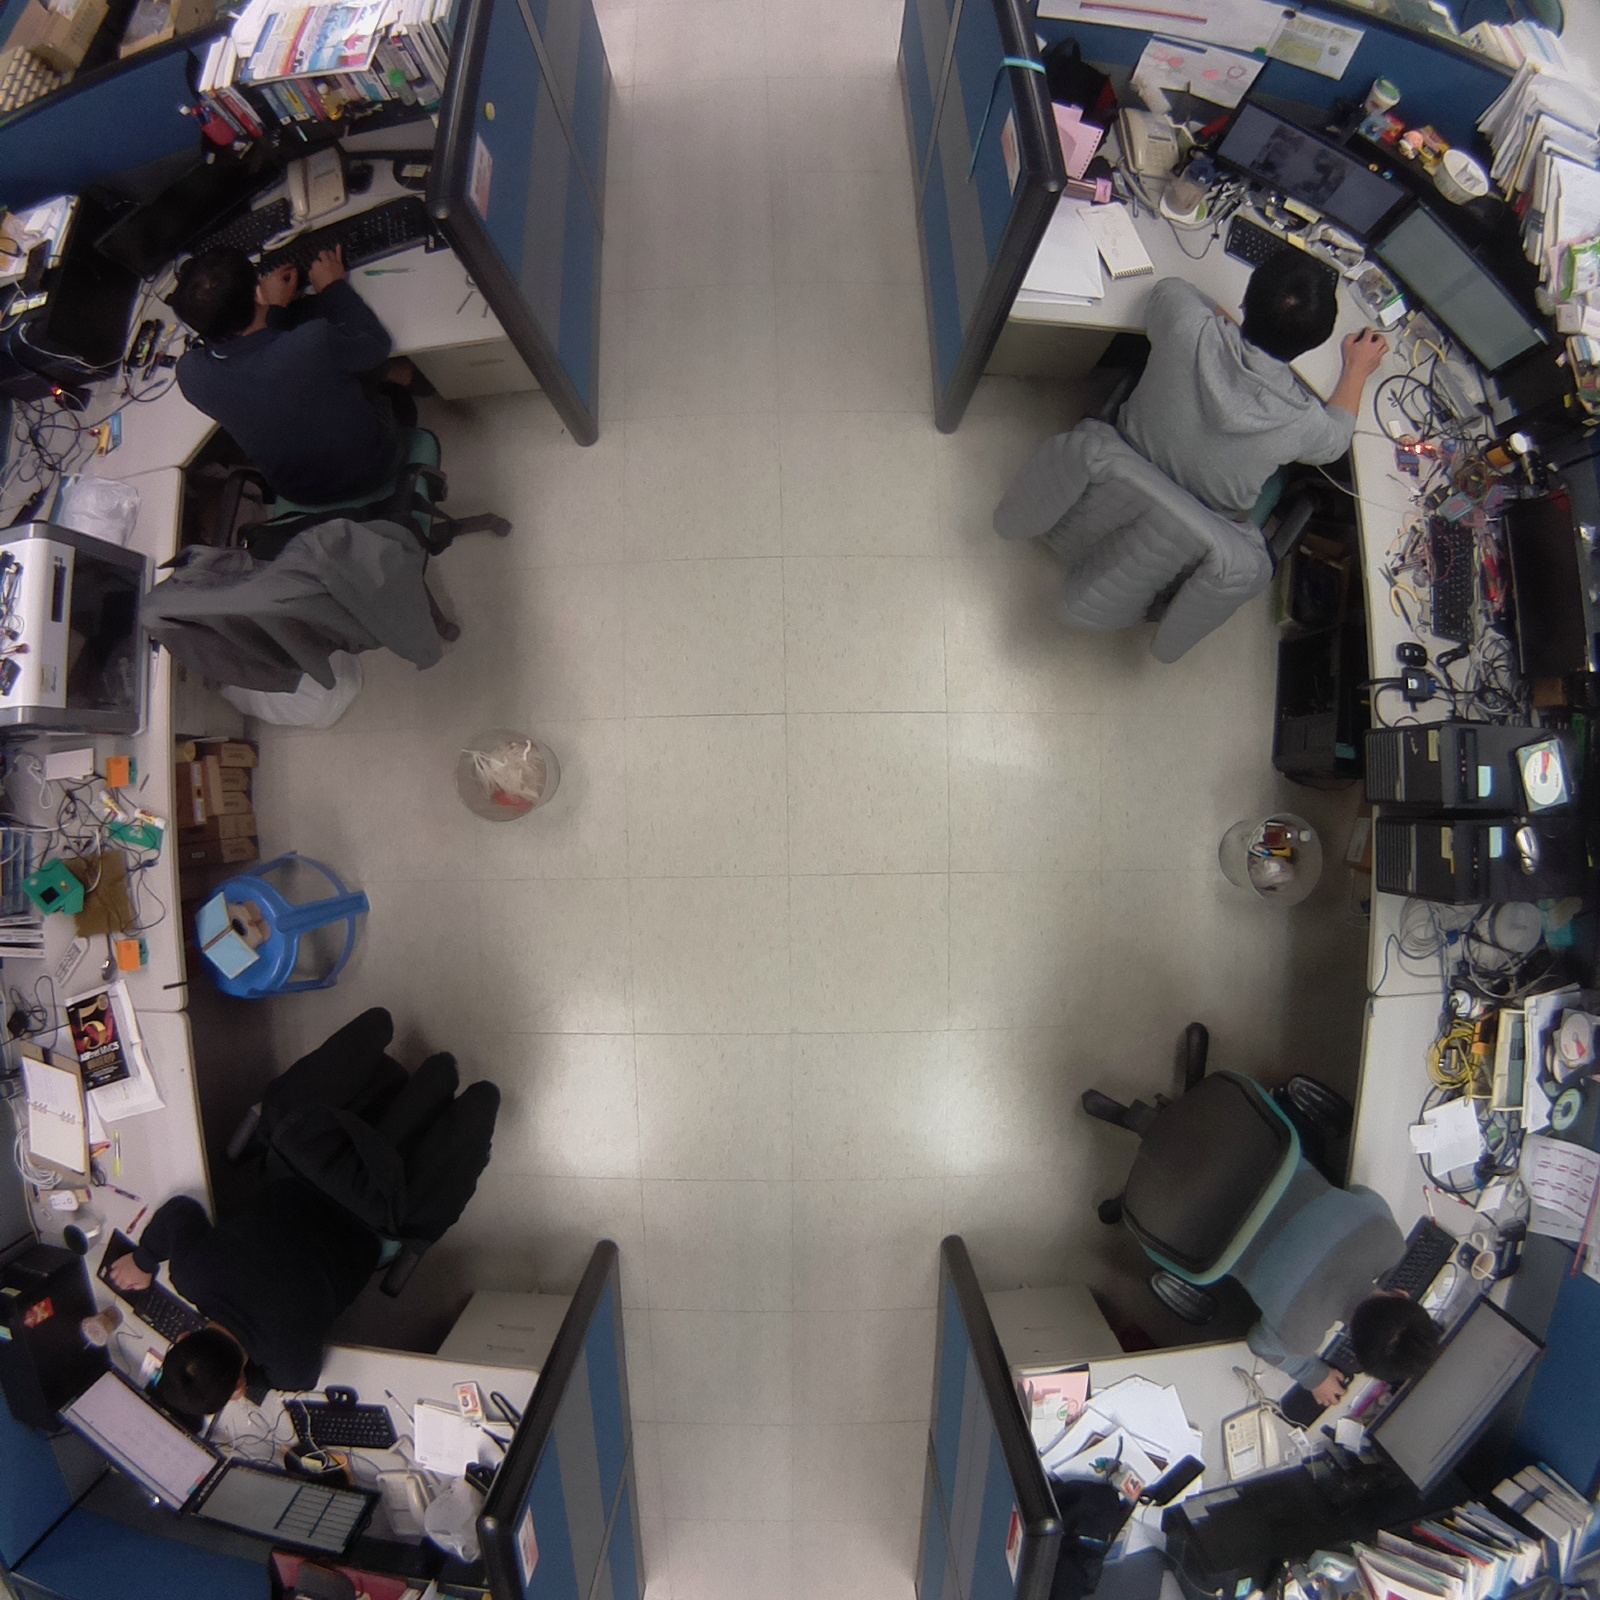head: (1236, 244, 1344, 363), (166, 242, 270, 355), (1342, 1287, 1453, 1391), (151, 1319, 253, 1429)
sitting: (965, 243, 1393, 683), (99, 975, 517, 1423), (127, 243, 532, 699), (1058, 1004, 1462, 1414)
